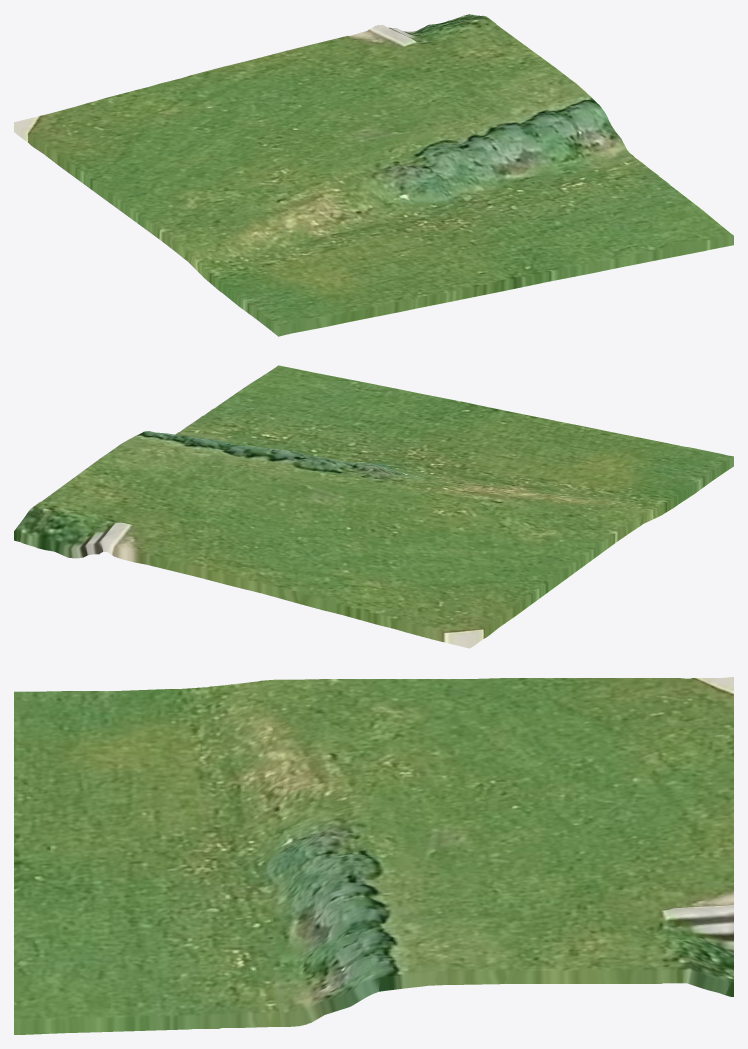
The model's file is z20-167568-405176-h0-yup-uvflip-v3-world.glb.
The picture shows the model from 3 angles, top to bottom: view 1: azimuth 30°, elevation 25°; view 2: azimuth 150°, elevation 25°; view 3: azimuth 270°, elevation 25°; orthographic projection. The views are drawn at different scales.
Size of the model in its own units: 30.16 by 3.08 by 30.32.
1 material, 1 textured.
